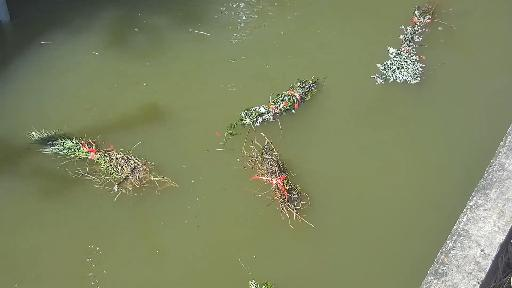twig: (17, 118, 186, 200), (366, 0, 477, 83), (218, 70, 338, 139), (245, 132, 326, 233)
